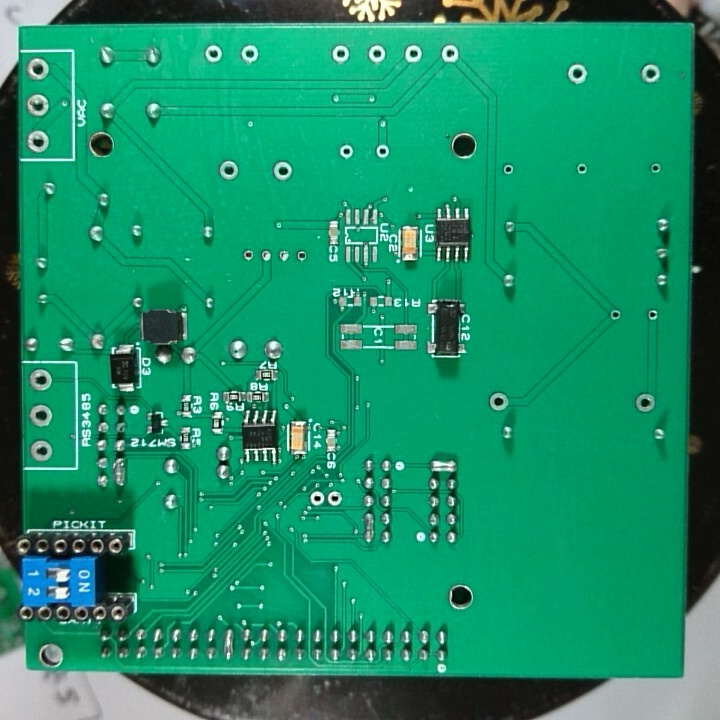F: (25, 92, 52, 122), (25, 55, 51, 85), (25, 128, 53, 155), (637, 60, 664, 88), (565, 60, 591, 88), (633, 389, 658, 418), (485, 389, 511, 416), (28, 438, 55, 464), (28, 403, 54, 430), (28, 367, 53, 395), (437, 41, 462, 68), (217, 157, 241, 183), (272, 158, 296, 183), (239, 40, 262, 66), (328, 43, 352, 67), (401, 43, 426, 66), (202, 43, 225, 66), (366, 43, 389, 66), (337, 142, 357, 163), (374, 140, 392, 163), (499, 160, 519, 180), (326, 489, 344, 508), (258, 247, 275, 266), (647, 158, 663, 178), (308, 489, 325, 507), (574, 160, 591, 178), (645, 306, 660, 326), (608, 305, 623, 325), (276, 246, 291, 266), (242, 246, 257, 265), (294, 249, 310, 266)
P: (219, 624, 237, 663), (109, 455, 128, 489), (427, 457, 461, 474), (360, 509, 377, 543)
